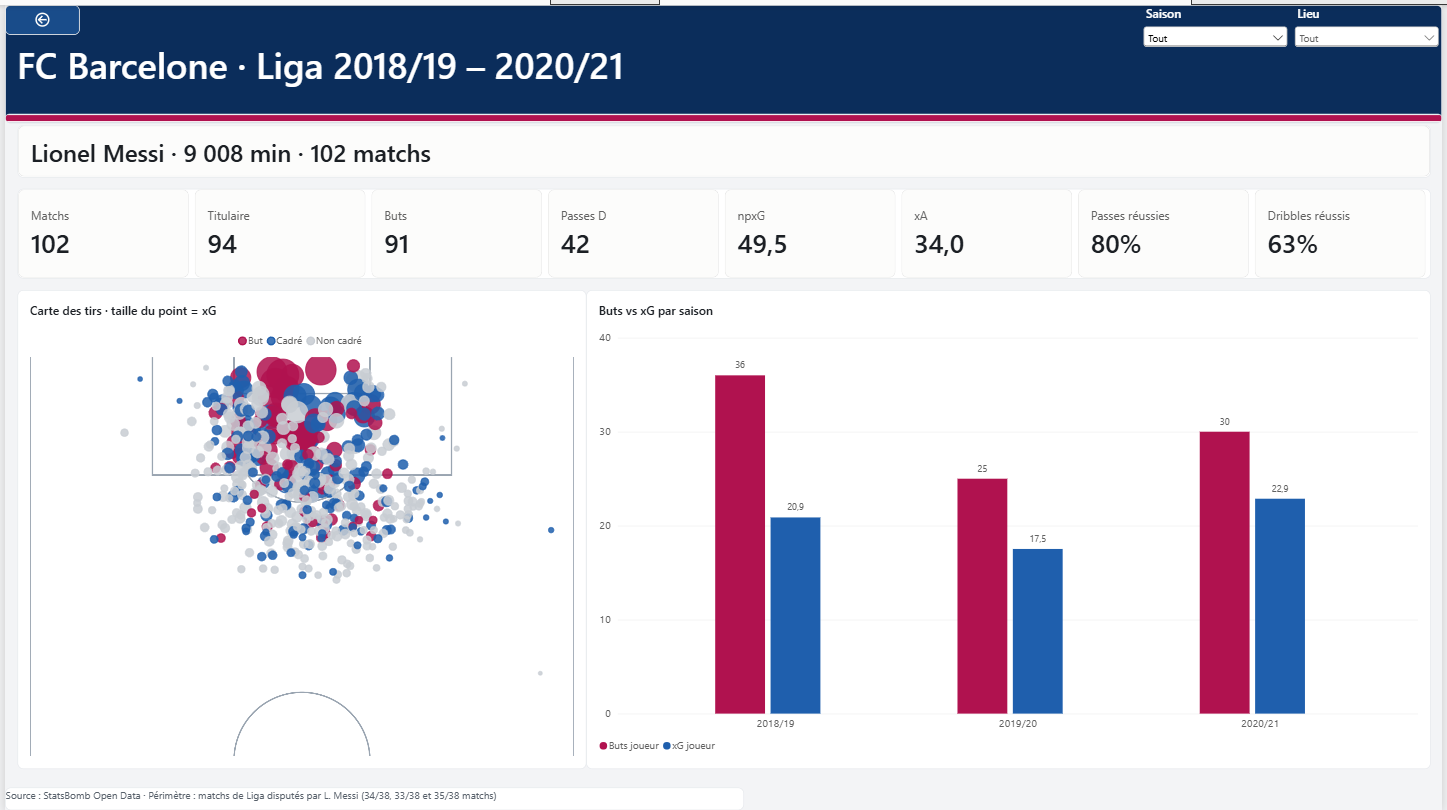

What the dashboard file says about the page in this screenshot:
{"tool":"powerbi","page":{"name":"Fiche joueur","canvas":[1920,1080],"ordinal":3},"visuals":[{"type":"shape","box":[0,0,1920,158],"z":0},{"type":"cardVisual","fields":{"Data":["_Mesures.Titre rapport"]},"box":[0,0,1516.1,158],"z":1000},{"type":"slicer","fields":{"Values":["DimMatch.season"]},"box":[1516.1,0,202,158],"z":2000},{"type":"slicer","fields":{"Values":["DimMatch.venue"]},"box":[1718,0,202,158],"z":3000},{"type":"shape","box":[0,146,1920,12],"z":9000},{"type":"textbox","box":[0,1045,987.4,30],"z":11000},{"type":"actionButton","box":[0,0,100,40],"z":11002},{"type":"cardVisual","fields":{"Data":["_Mesures.Sous-titre joueur"]},"box":[16,160,1888,70],"z":11003},{"type":"cardVisual","fields":{"Data":["_Mesures.Matchs disputés","_Mesures.Titularisations","_Mesures.Buts joueur","_Mesures.Passes décisives","_Mesures.npxG joueur","_Mesures.xA","_Mesures.Précision passes joueur","_Mesures.% Dribbles réussis"]},"box":[16,245,1888,120],"z":11004},{"type":"scatterChart","title":"Carte des tirs · taille du point = xG","fields":{"Category":["FactShots.shot_id"],"Series":["FactShots.shot_result"],"Size":["Sum(FactShots.xg)"],"X":["Sum(FactShots.map_x)"],"Y":["Sum(FactShots.map_y)"]},"box":[16,380,760,640],"z":11005},{"type":"clusteredColumnChart","title":"Buts vs xG par saison","fields":{"Category":["DimMatch.season"],"Y":["_Mesures.Buts joueur","_Mesures.xG joueur"]},"box":[776,380,1128,640],"z":11006}]}

Visuals, with their boxes on the page's 1920x1080 design canvas (x1, y1, x2, y2). These are canvas units, not pixel positions in the 1447x810 screenshot, which may show the page scaled, cropped or inside an application window:
shape: region(0, 0, 1920, 158)
cardVisual - _Mesures.Titre rapport: region(0, 0, 1516, 158)
slicer - DimMatch.season: region(1516, 0, 1718, 158)
slicer - DimMatch.venue: region(1718, 0, 1920, 158)
shape: region(0, 146, 1920, 158)
textbox: region(0, 1045, 987, 1075)
actionButton: region(0, 0, 100, 40)
cardVisual - _Mesures.Sous-titre joueur: region(16, 160, 1904, 230)
cardVisual - _Mesures.Matchs disputés x _Mesures.Titularisations: region(16, 245, 1904, 365)
"Carte des tirs · taille du point = xG" scatterChart: region(16, 380, 776, 1020)
"Buts vs xG par saison" clusteredColumnChart: region(776, 380, 1904, 1020)
